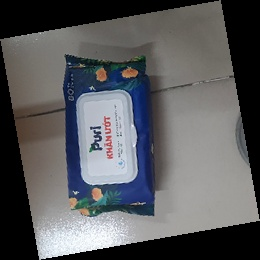Puri Xanh: (63, 52, 157, 220)
